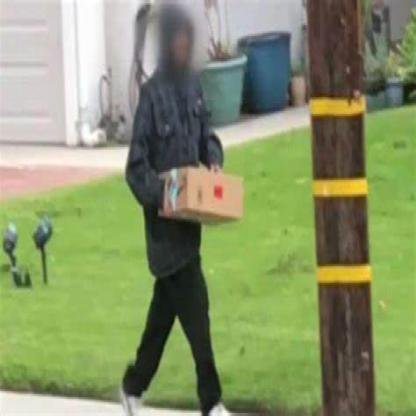package: (157, 162, 247, 228)
